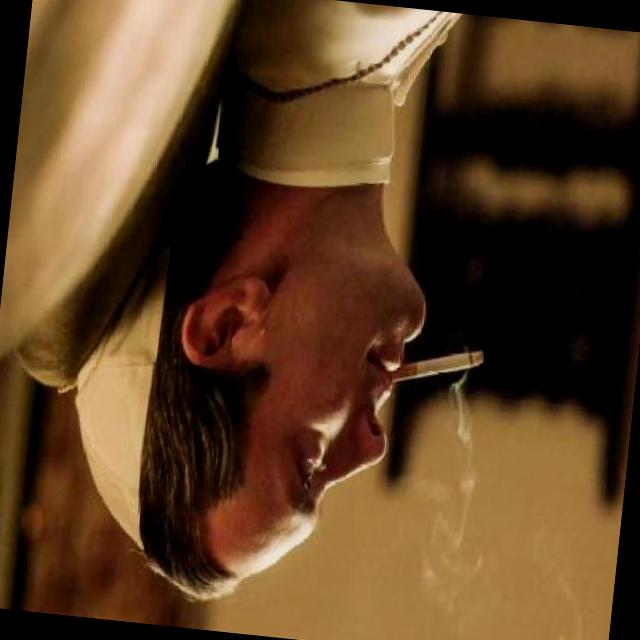cigarette: (387, 338, 486, 398)
